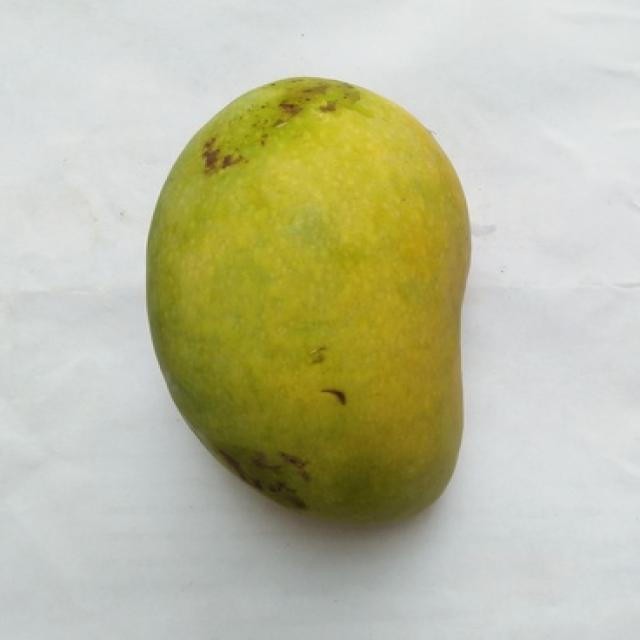Mango: (146, 78, 470, 520)
